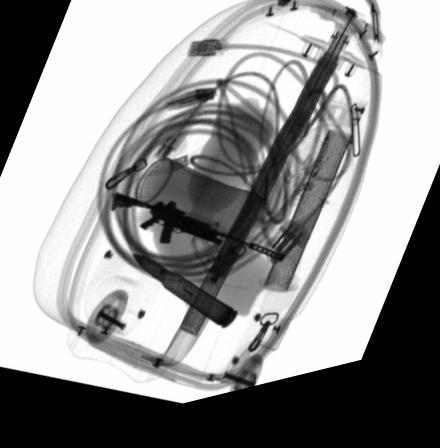Bullet: (133, 259, 239, 338)
Gun: (111, 198, 286, 275)
